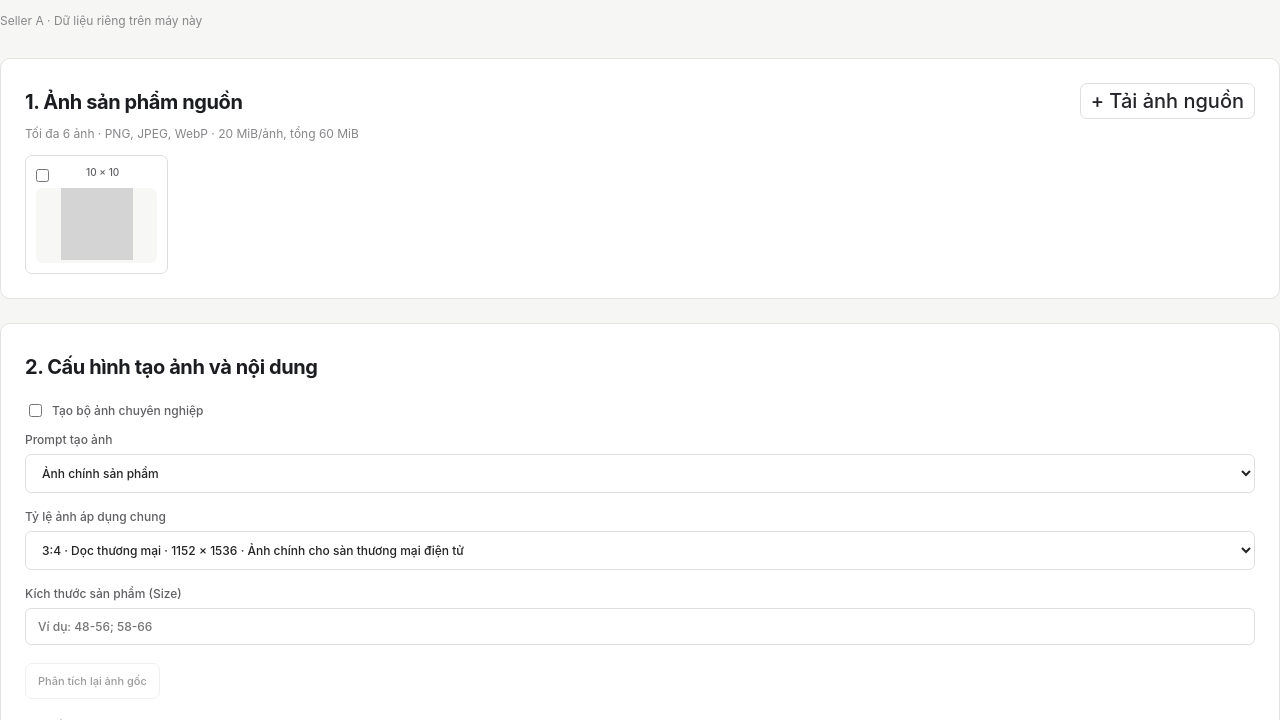
Test: source selection and prompt preview work without a key; generate remains blocked
Click the checkbox named "Chọn ảnh nguồn asset1" at {"x": 42, "y": 176}, box left=36, top=169, right=49, bottom=182
(page scrolled)
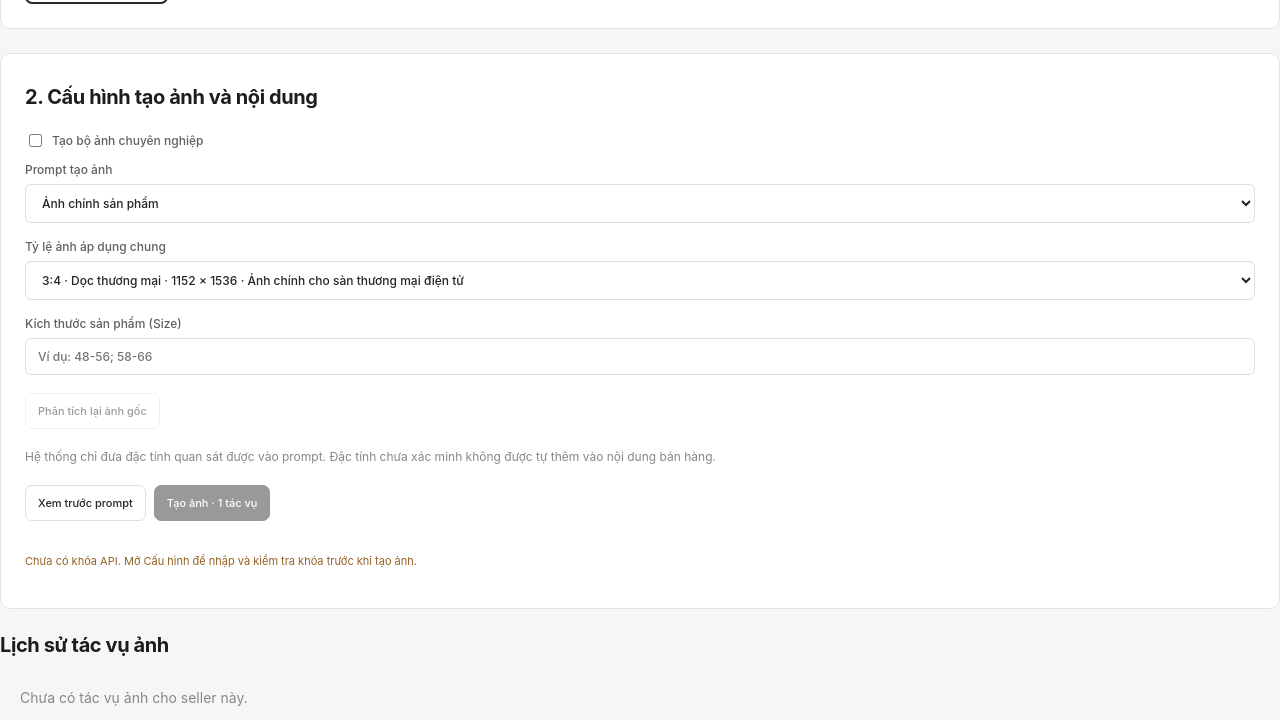
Click the button "Xem trước prompt" at {"x": 85, "y": 503}, box left=25, top=485, right=146, bottom=521
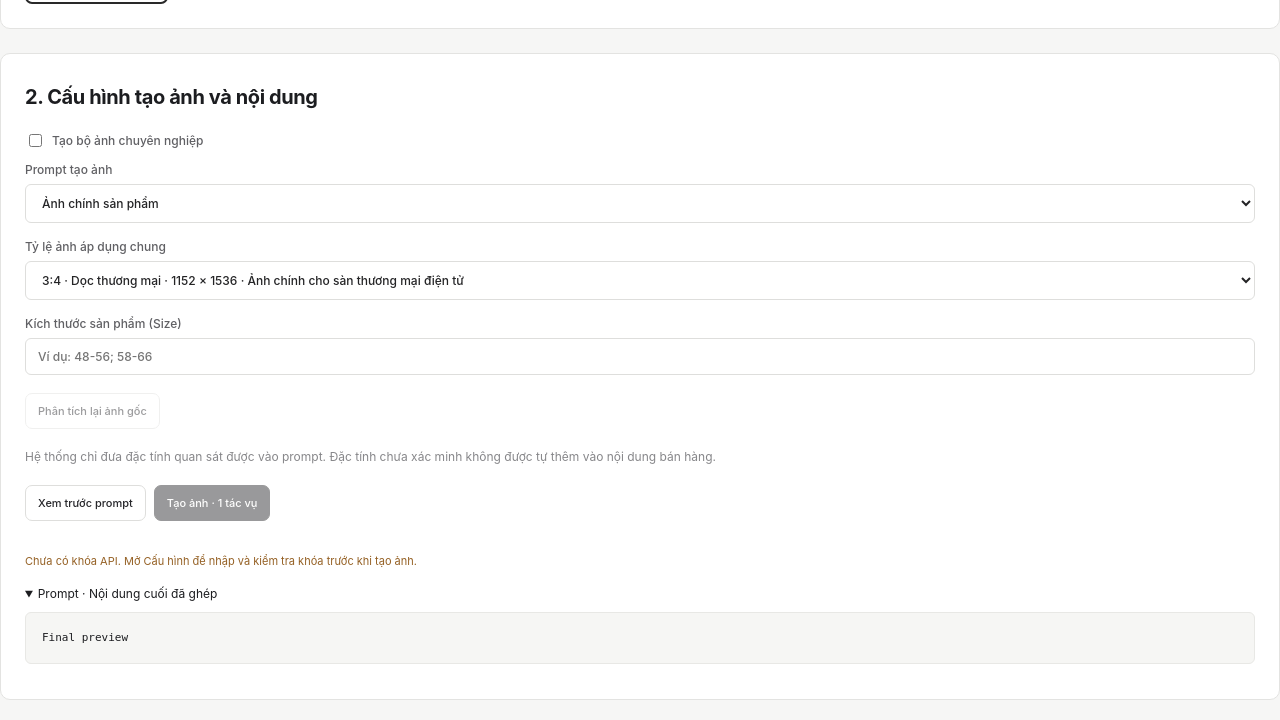
Expected: the button "Tạo ảnh · 1 tác vụ" is disabled, left=154, top=485, right=270, bottom=521
Expected: the text "Final preview" is shown, left=25, top=612, right=1255, bottom=664
